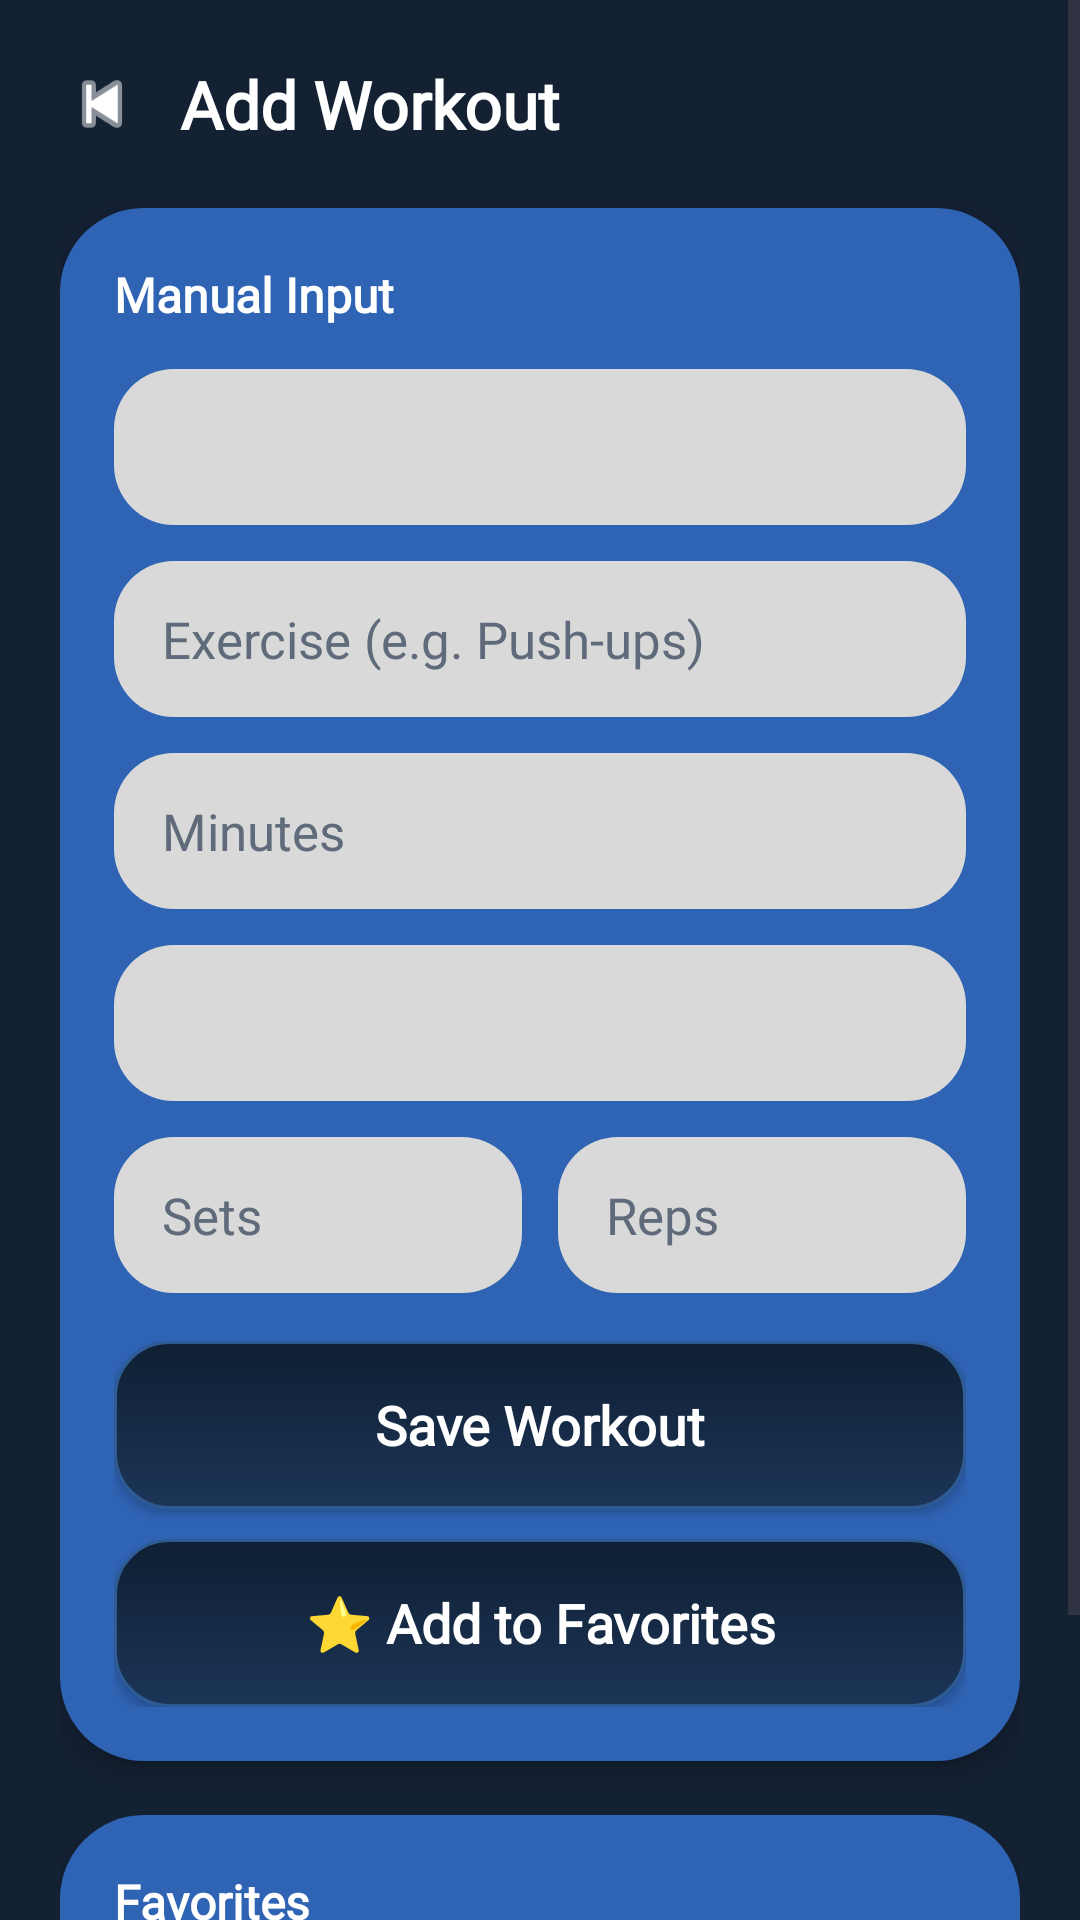

Where to tap for icons on this 1080px×1920px app screen, as (x=x, y=y):
Back Button: (x=102, y=104)
